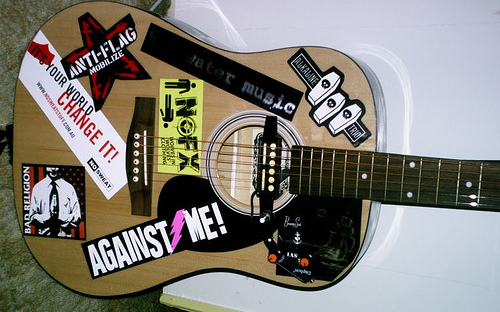guitar: (12, 2, 500, 300)
